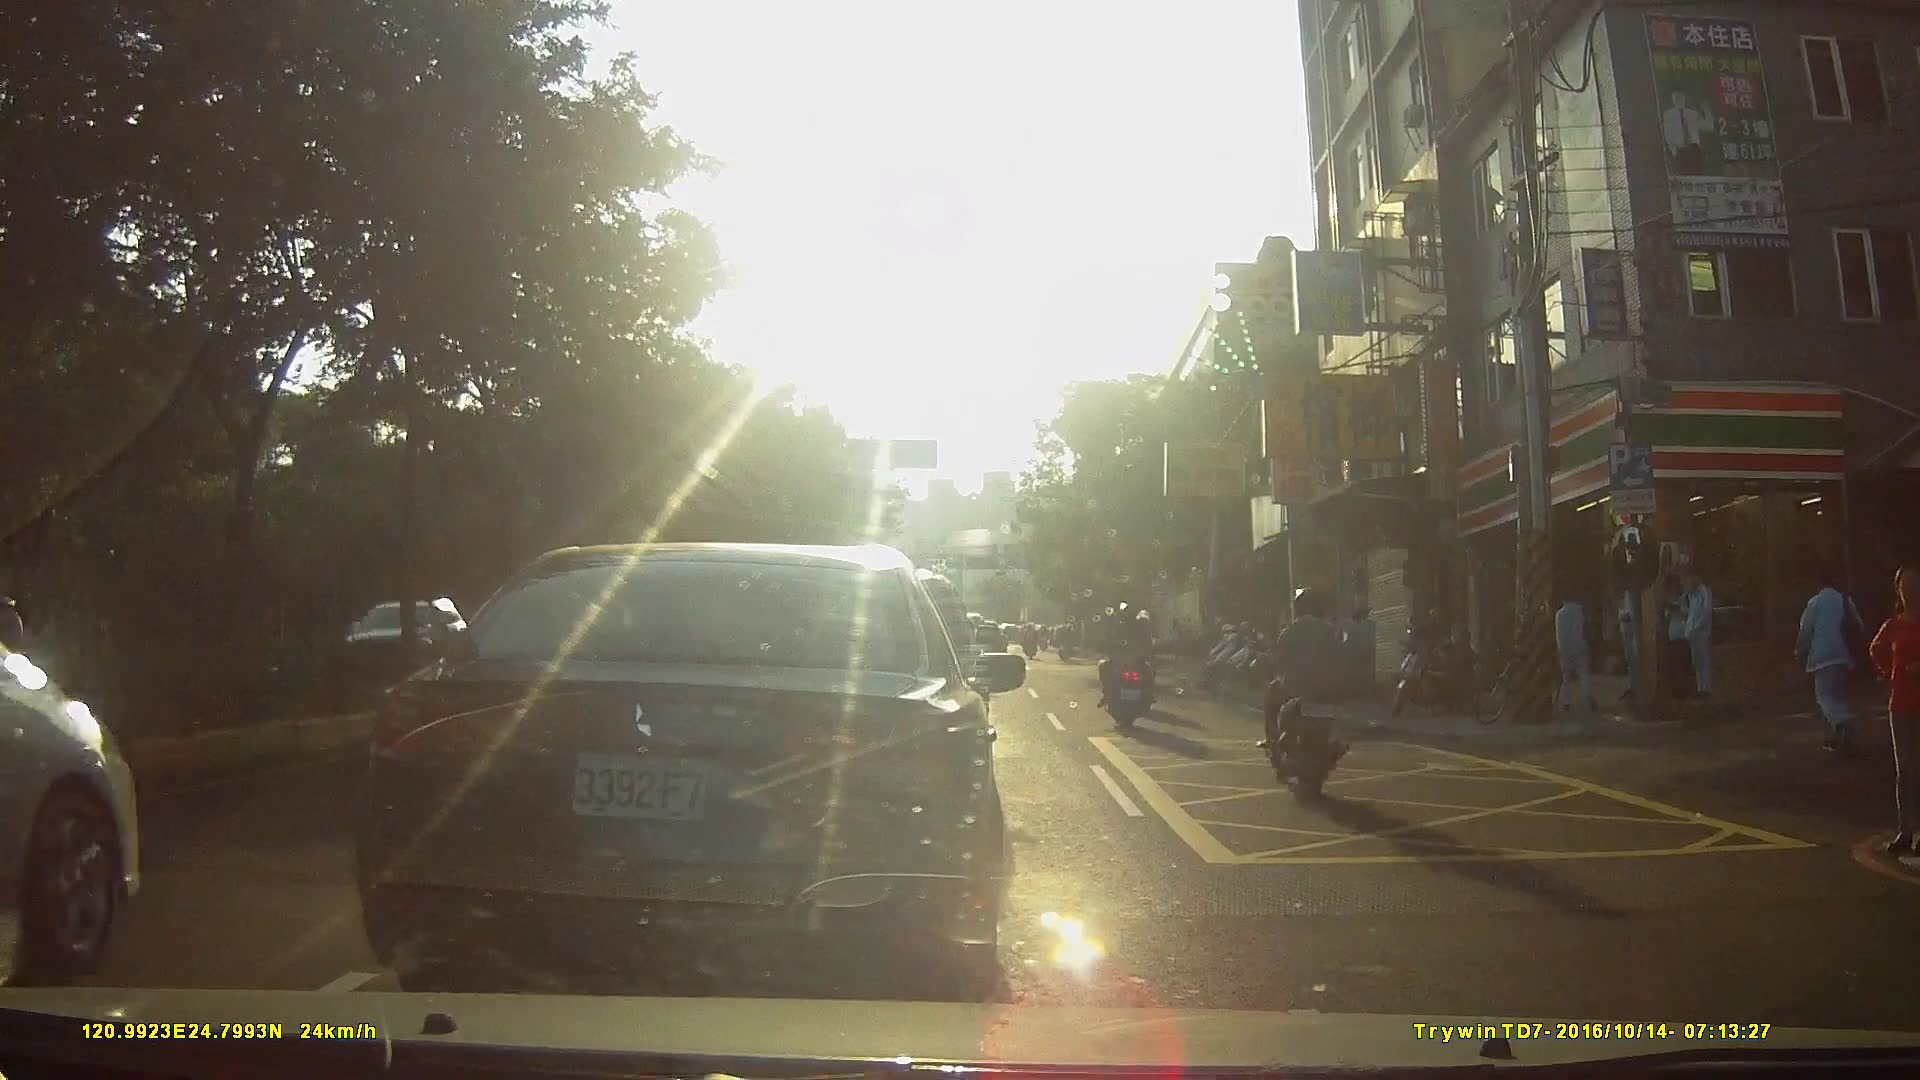pedestrian: (1790, 563, 1874, 759), (1867, 567, 1920, 854), (1546, 579, 1596, 715), (1670, 569, 1717, 699), (1610, 574, 1655, 708), (1660, 567, 1698, 711)
rider: (1259, 588, 1353, 794), (1099, 601, 1158, 728), (1056, 622, 1078, 665), (1021, 623, 1041, 664)
vehicle: (359, 542, 1037, 983), (1, 603, 176, 999), (342, 595, 468, 695)
